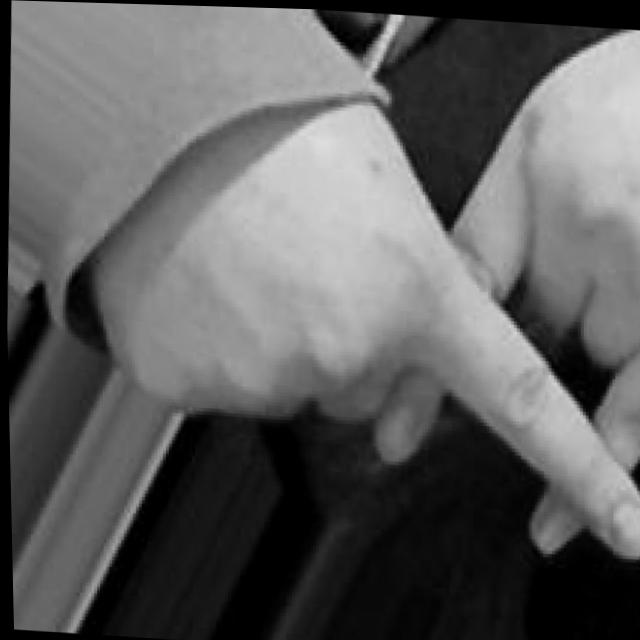H: (83, 2, 640, 563)
